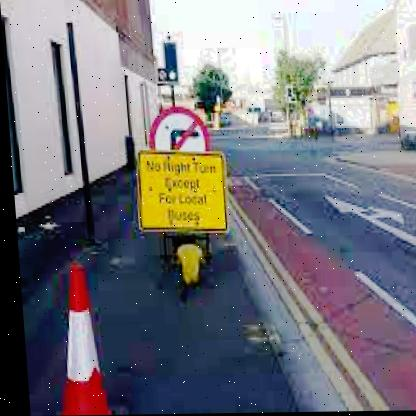No right turn: (153, 101, 212, 168)
